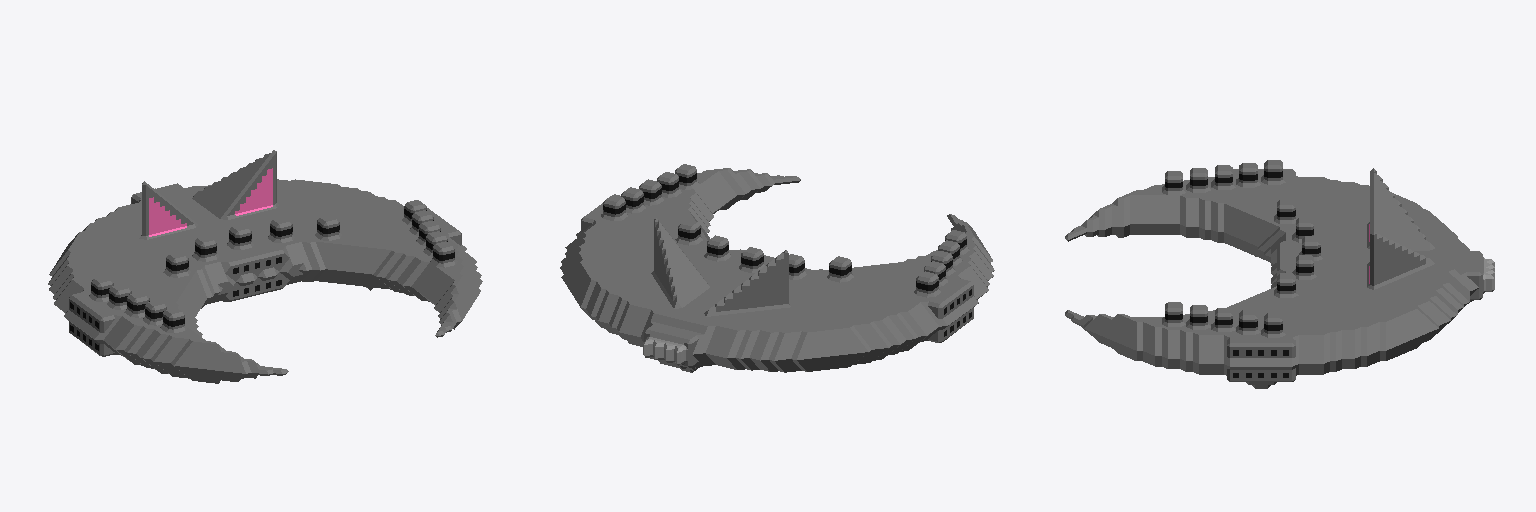
3 renders of one model, left to right at view 1: azimuth 30°, elevation 25°; view 2: azimuth 150°, elevation 25°; view 3: azimuth 270°, elevation 25°, orthographic.
Size of the model in its own units: 69 by 20 by 69.
Materials: 1 (1 with a texture image).